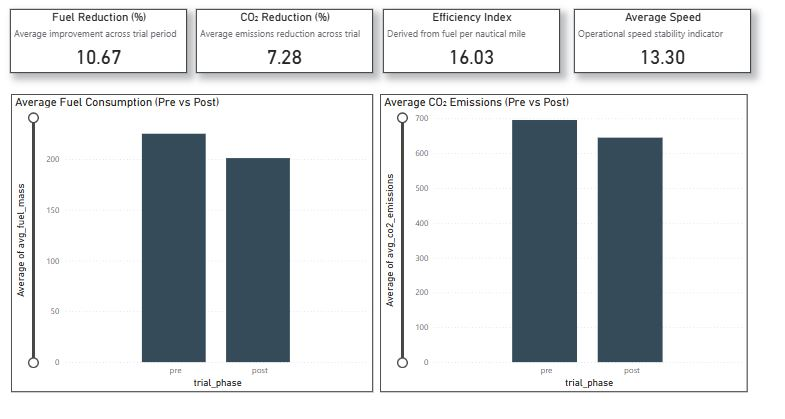

The page's visual inventory and layout, read from the dashboard file:
{"tool":"powerbi","page":{"name":"Page 1","canvas":[1280,720],"ordinal":0},"visuals":[{"type":"lineClusteredColumnComboChart","title":"Average Fuel Consumption (Pre vs Post)","fields":{"Category":["performance_summary.trial_phase"],"Y":["Avg(performance_summary.avg_fuel_mass)"]},"box":[45.7,162.2,532.4,438],"z":0},{"type":"card","title":"Fuel Reduction (%)","fields":{"Values":["Avg(performance_summary.fuel_reduction_pct)","select"]},"box":[44.2,36.9,259.5,94.4],"z":1000},{"type":"card","title":"CO₂ Reduction (%)","fields":{"Values":["Avg(performance_summary.co2_reduction_pct)"]},"box":[317.1,36.9,259.5,94.4],"z":2000},{"type":"card","title":"Efficiency Index","fields":{"Values":["Avg(performance_summary.efficiency_index)"]},"box":[592.8,36.9,259.5,94.4],"z":3000},{"type":"lineClusteredColumnComboChart","title":"Average CO₂ Emissions (Pre vs Post)","fields":{"Category":["performance_summary.trial_phase"],"Y":["Avg(performance_summary.avg_co2_emissions)"]},"box":[588.4,162.2,539.7,438],"z":4000},{"type":"card","title":"Average Speed","fields":{"Values":["Avg(performance_summary.avg_speed)"]},"box":[873,36.9,259.5,94.4],"z":5000}]}

Visuals, with their boxes on the page's 1280x720 design canvas (x1, y1, x2, y2). These are canvas units, not pixel positions in the 785x419 screenshot, which may show the page scaled, cropped or inside an application window:
"Average Fuel Consumption (Pre vs Post)" lineClusteredColumnComboChart: box(46, 162, 578, 600)
"Fuel Reduction (%)" card: box(44, 37, 304, 131)
"CO₂ Reduction (%)" card: box(317, 37, 577, 131)
"Efficiency Index" card: box(593, 37, 852, 131)
"Average CO₂ Emissions (Pre vs Post)" lineClusteredColumnComboChart: box(588, 162, 1128, 600)
"Average Speed" card: box(873, 37, 1132, 131)
